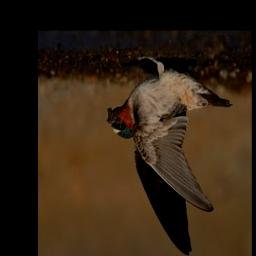Swallow: (106, 55, 233, 256)
